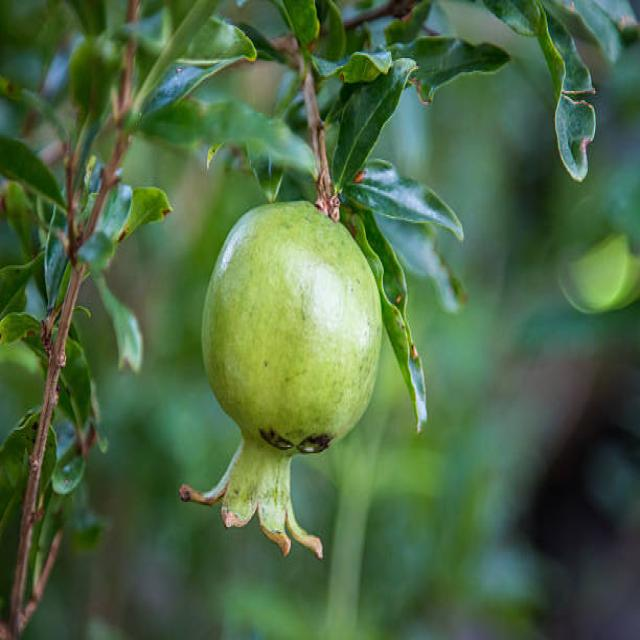Unripe: (181, 198, 381, 565)
